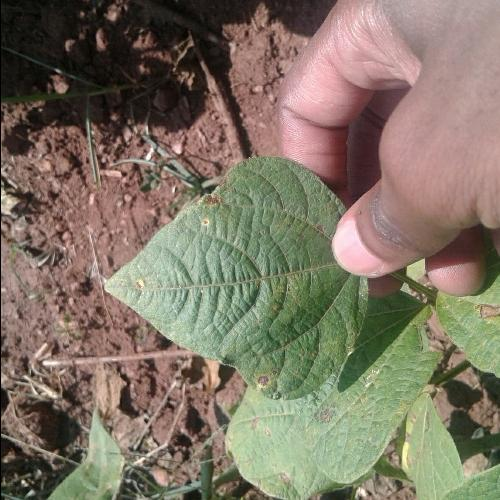hawar: (140, 188, 346, 419)
